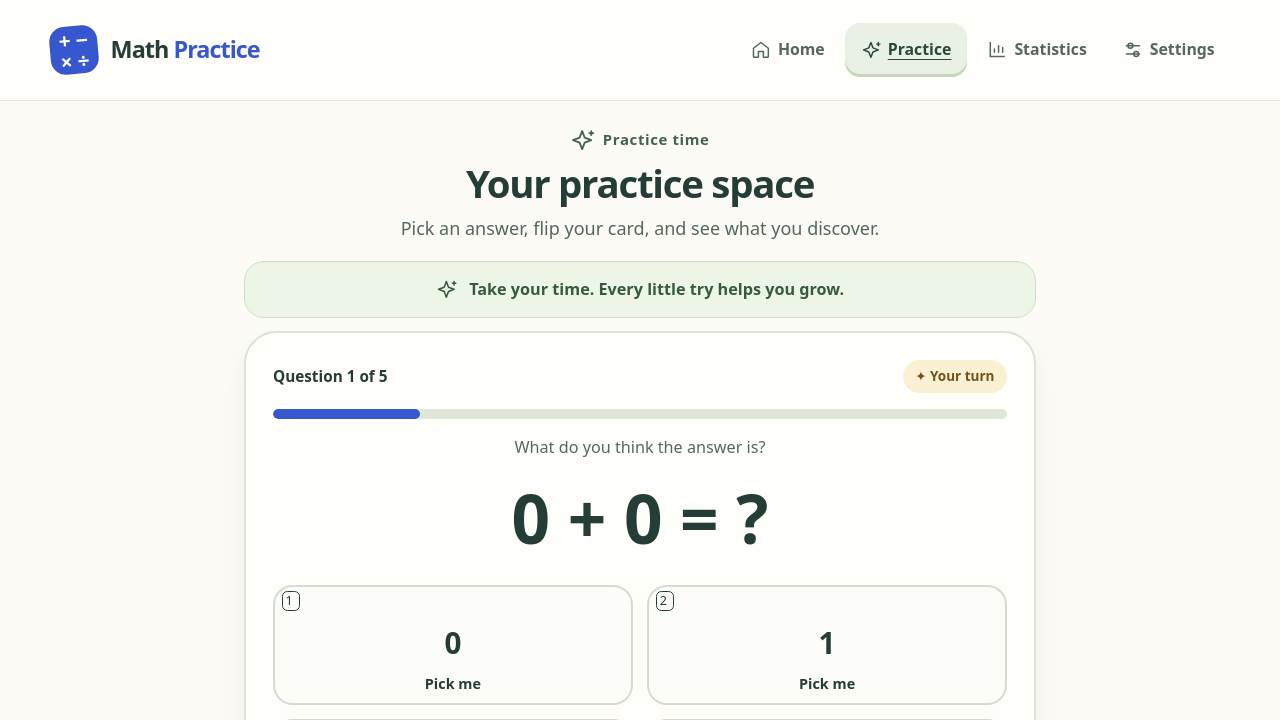
Test case: a failed end action does not confirm navigation until ending succeeds
Click the link "Settings". click: (1169, 49)
box: left=1123, top=38, right=1215, bottom=60
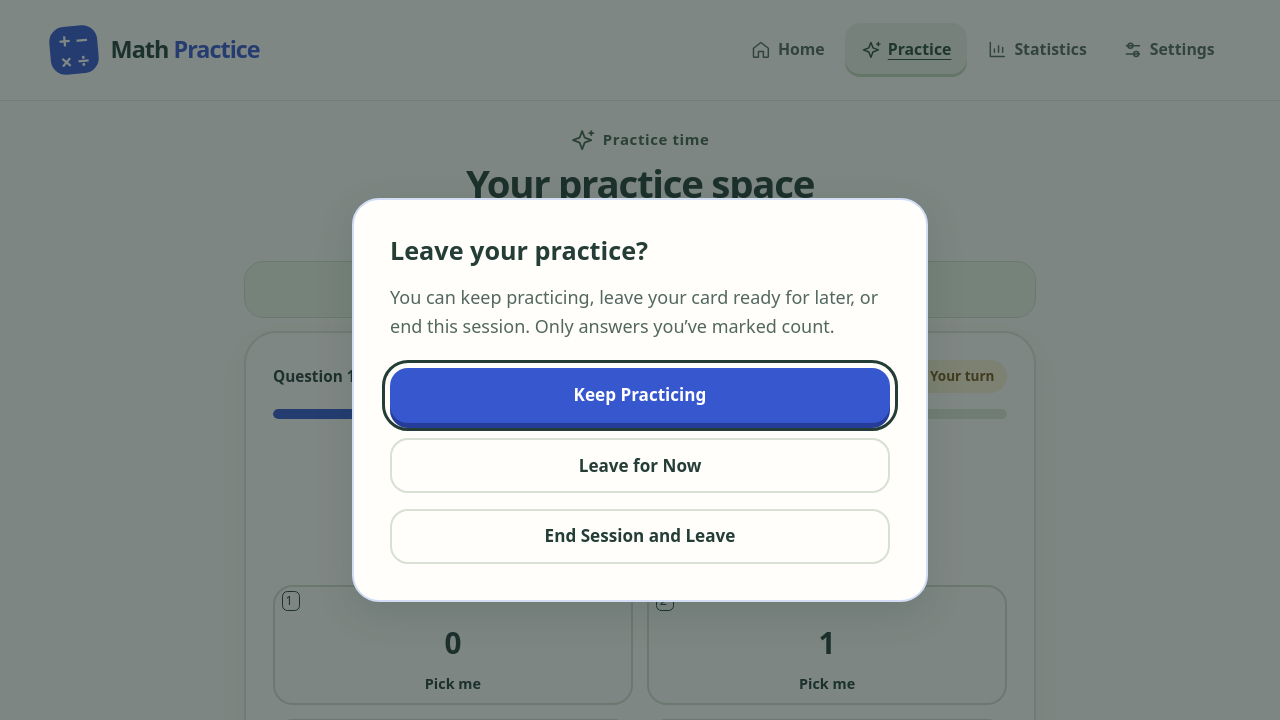
Click the button "End Session and Leave". click: (640, 536)
box: left=390, top=509, right=890, bottom=564
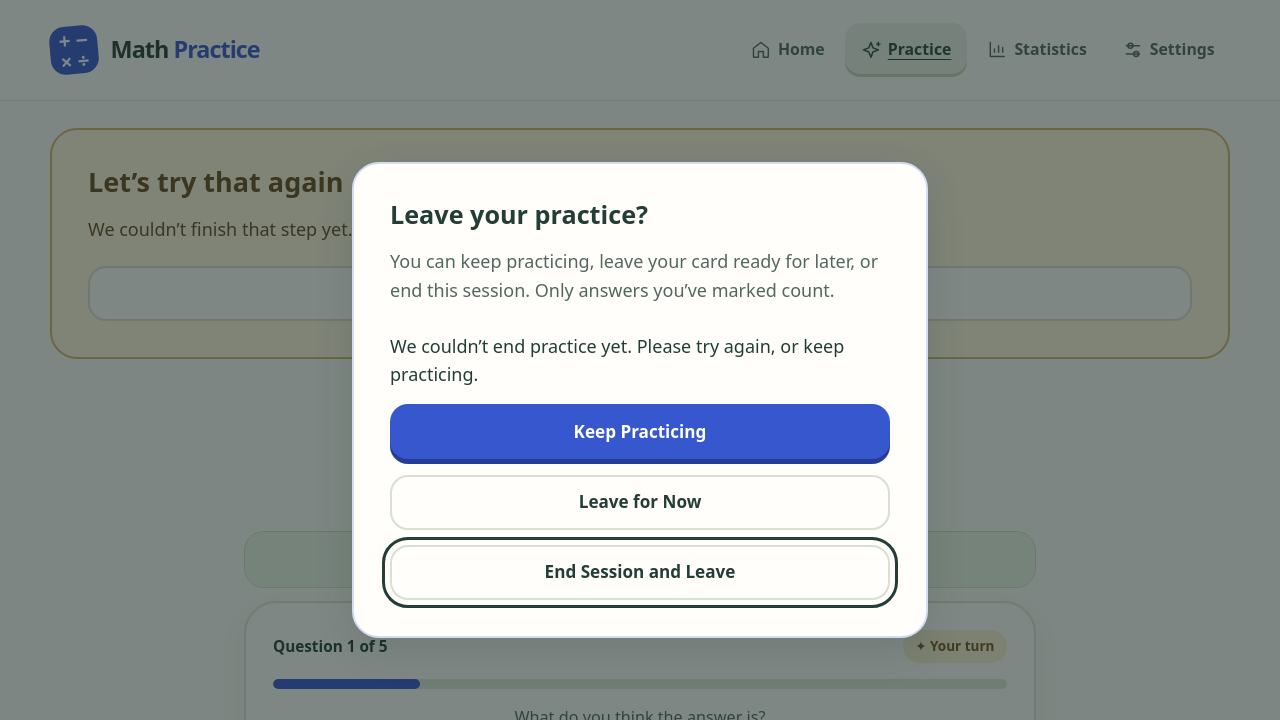
Expected: the heading "Make it feel like you" is not shown
Expected: the message shows "We couldn’t end practice yet", left=390, top=334, right=844, bottom=386
Click the button "End Session and Leave". click: (640, 572)
box: left=390, top=545, right=890, bottom=600
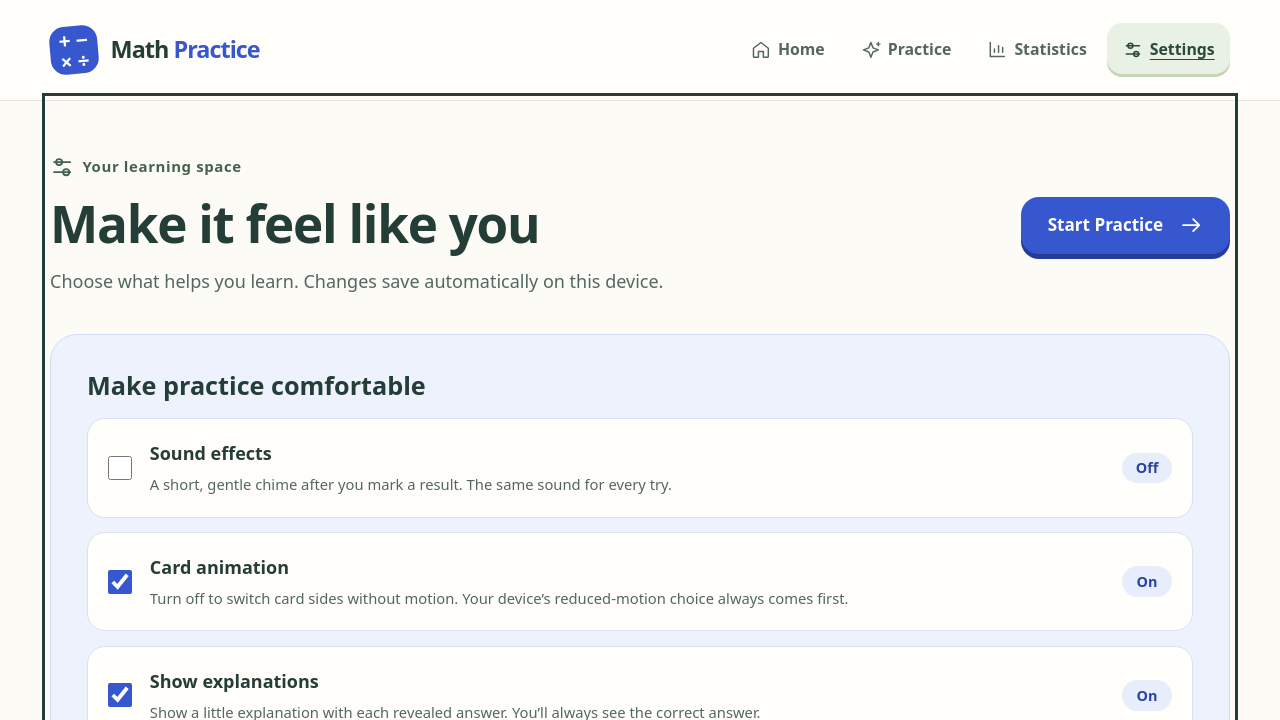
Expected: the dialog is gone
Expected: the heading "Make it feel like you" is shown, left=50, top=188, right=539, bottom=258
